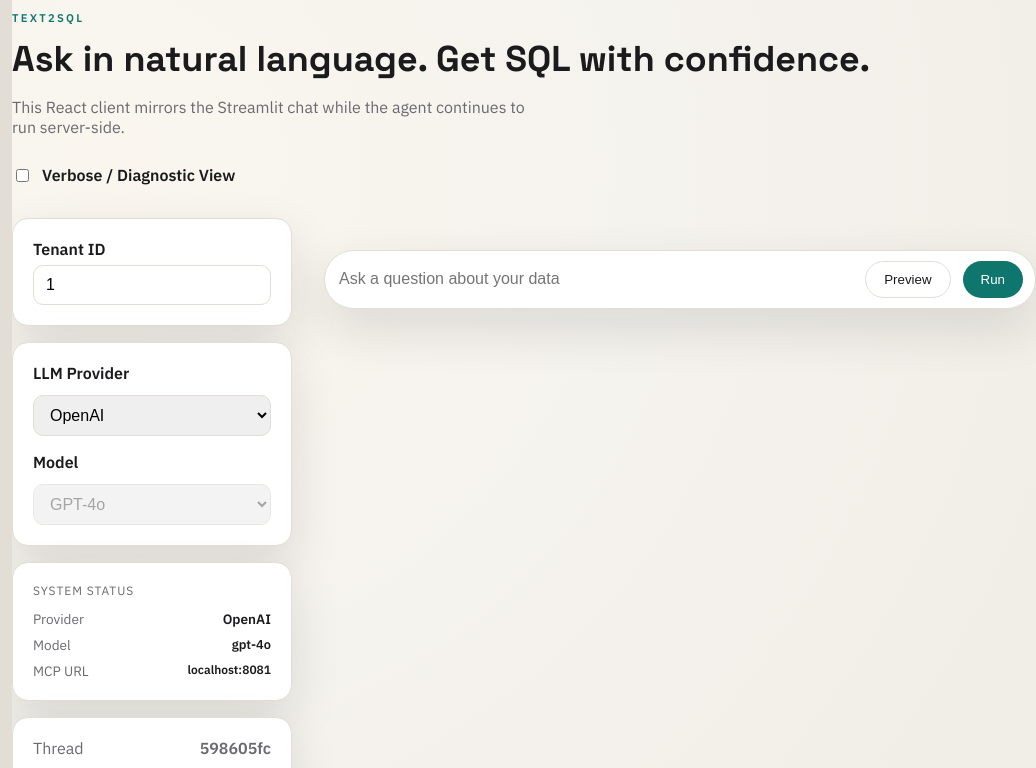
Scenario: AgentChat streaming › shows ErrorCard on error
In the field with placeholder "Ask a question about your data": (595, 279) [337, 261, 853, 298], type "trigger error"
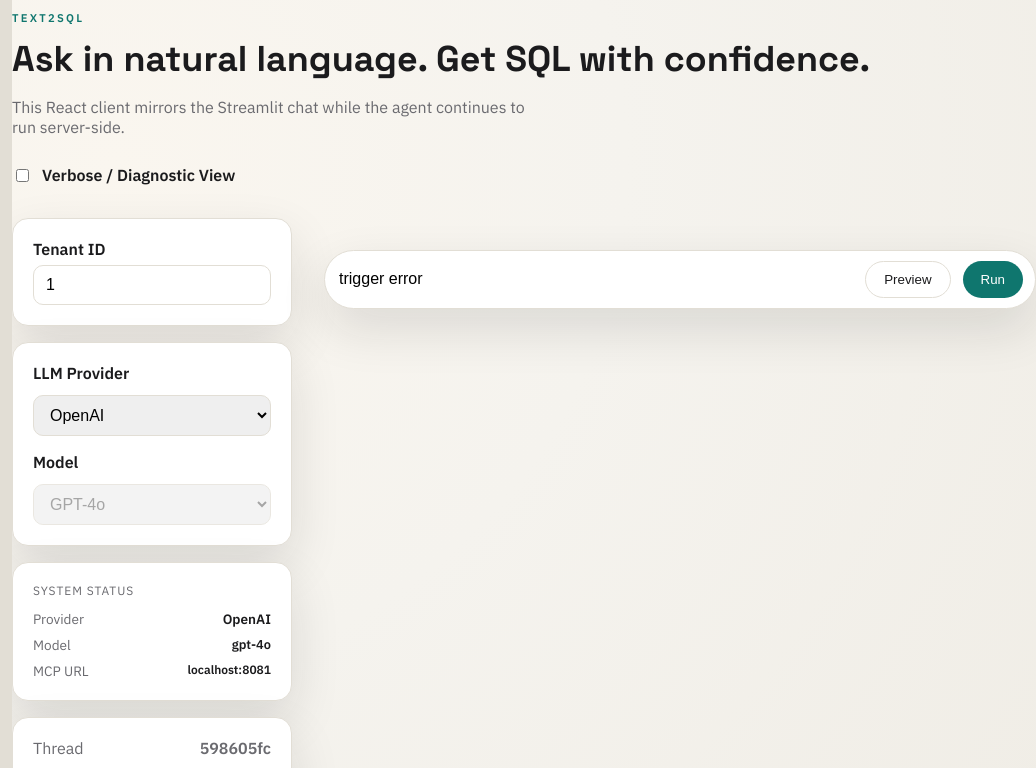
Submit the form with placeholder "ask a question", box [324, 250, 1035, 309]
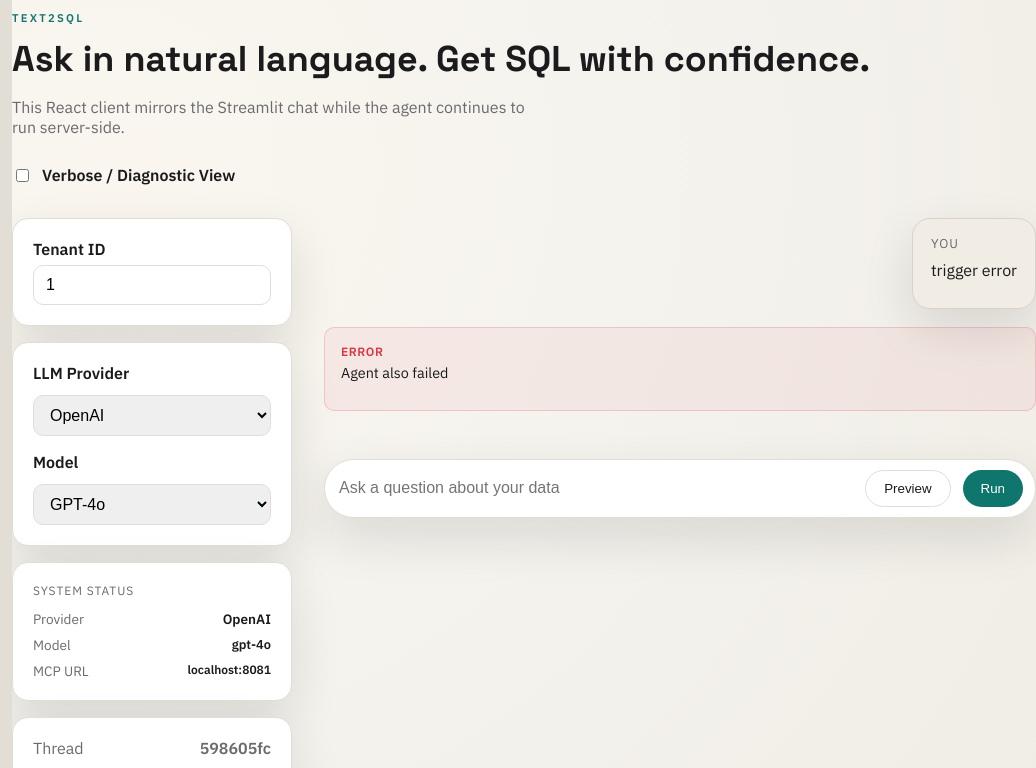
Expected: the text "Agent also failed" is shown, [341, 363, 448, 382]
Expected: the text "Error" is shown, [341, 344, 384, 359]
